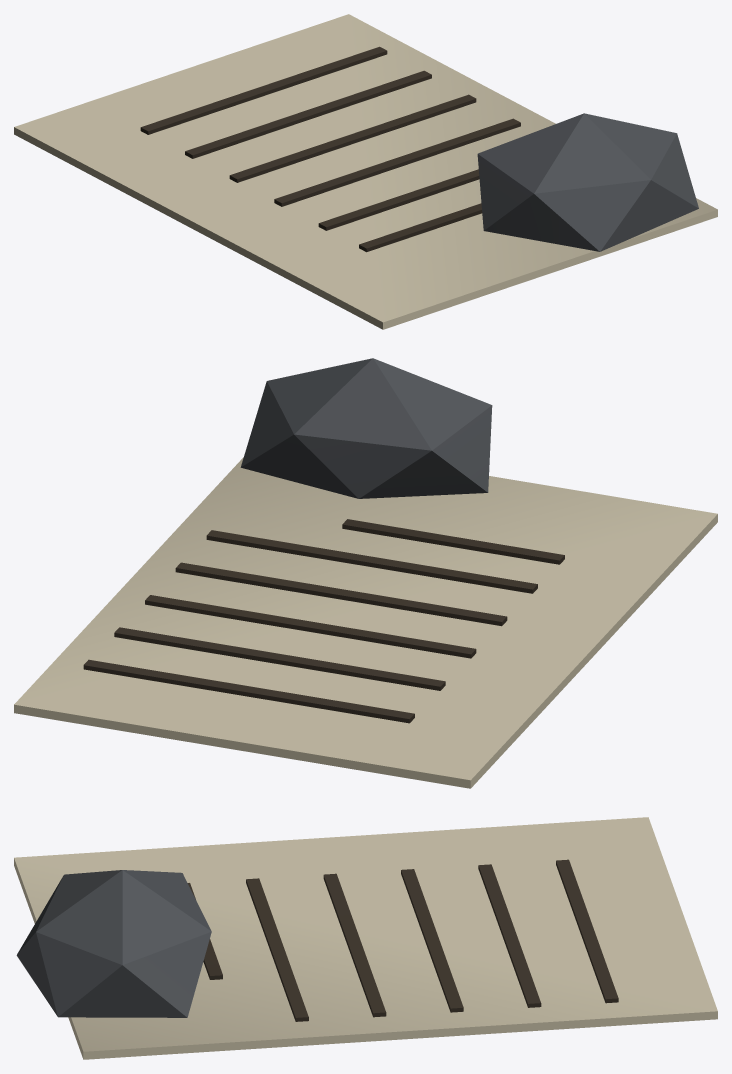
File: JournalPage.fbx
The picture shows the model from 3 angles, top to bottom: view 1: azimuth 30°, elevation 25°; view 2: azimuth 150°, elevation 25°; view 3: azimuth 270°, elevation 25°; orthographic projection. The views are drawn at different scales.
Visible parts, largest first — view 1: JournalPage; view 2: JournalPage; view 3: JournalPage.
Part boxes in pixels (bbox=[...]): JournalPage: bbox=[14, 14, 717, 329]; JournalPage: bbox=[14, 358, 717, 788]; JournalPage: bbox=[14, 817, 717, 1059].
Size of the model in its own units: 0.251 by 0.0645 by 0.3181.
